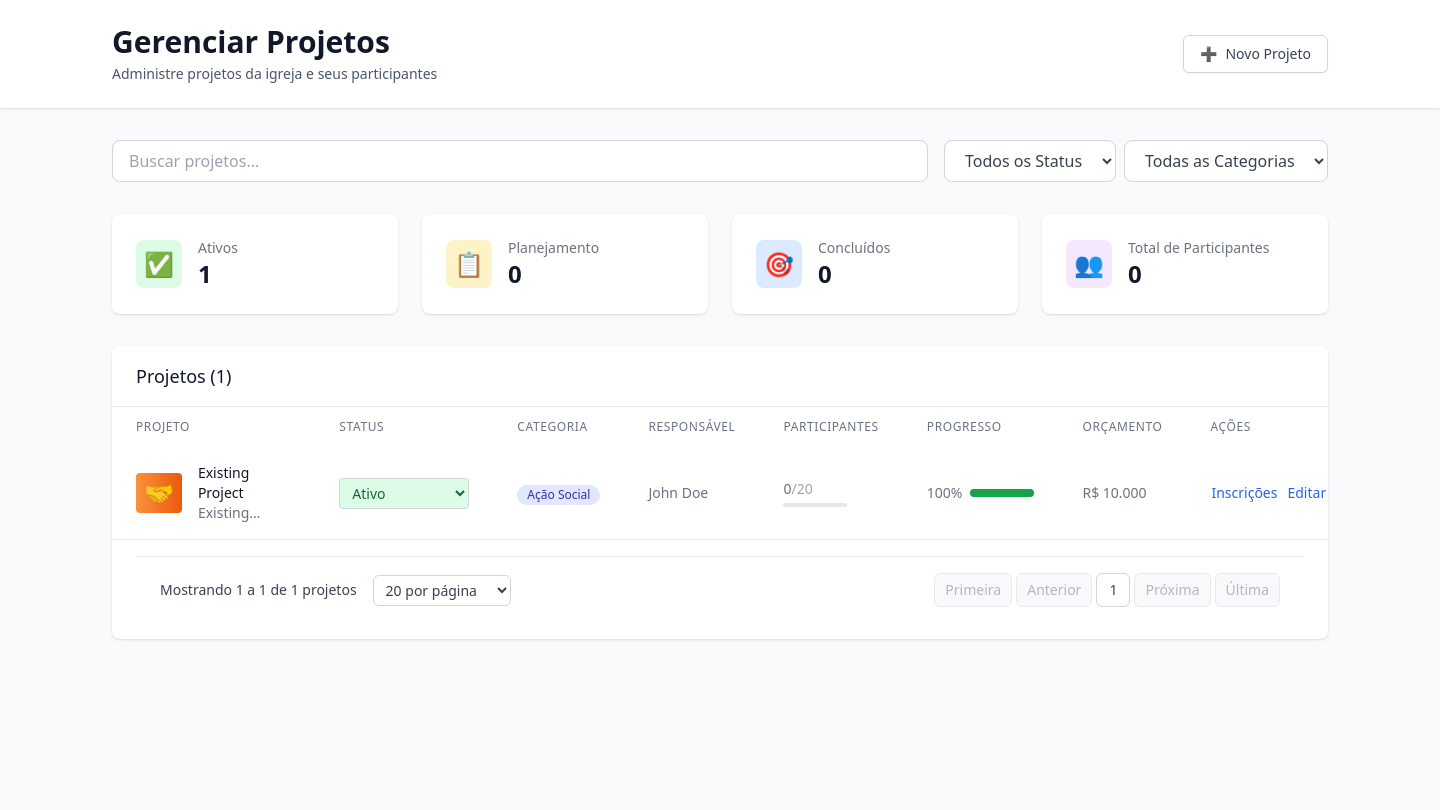
Test: AdminProjectsManagementPage › Edit Project › should open edit modal with project data
The width and height of the screenshot is (1440, 810).
Check: the text "Existing Project" is shown, box top-left (198, 463), bottom-right (249, 502)
Click the button "Editar" at (1307, 493), box top-left (1286, 482), bottom-right (1327, 504)
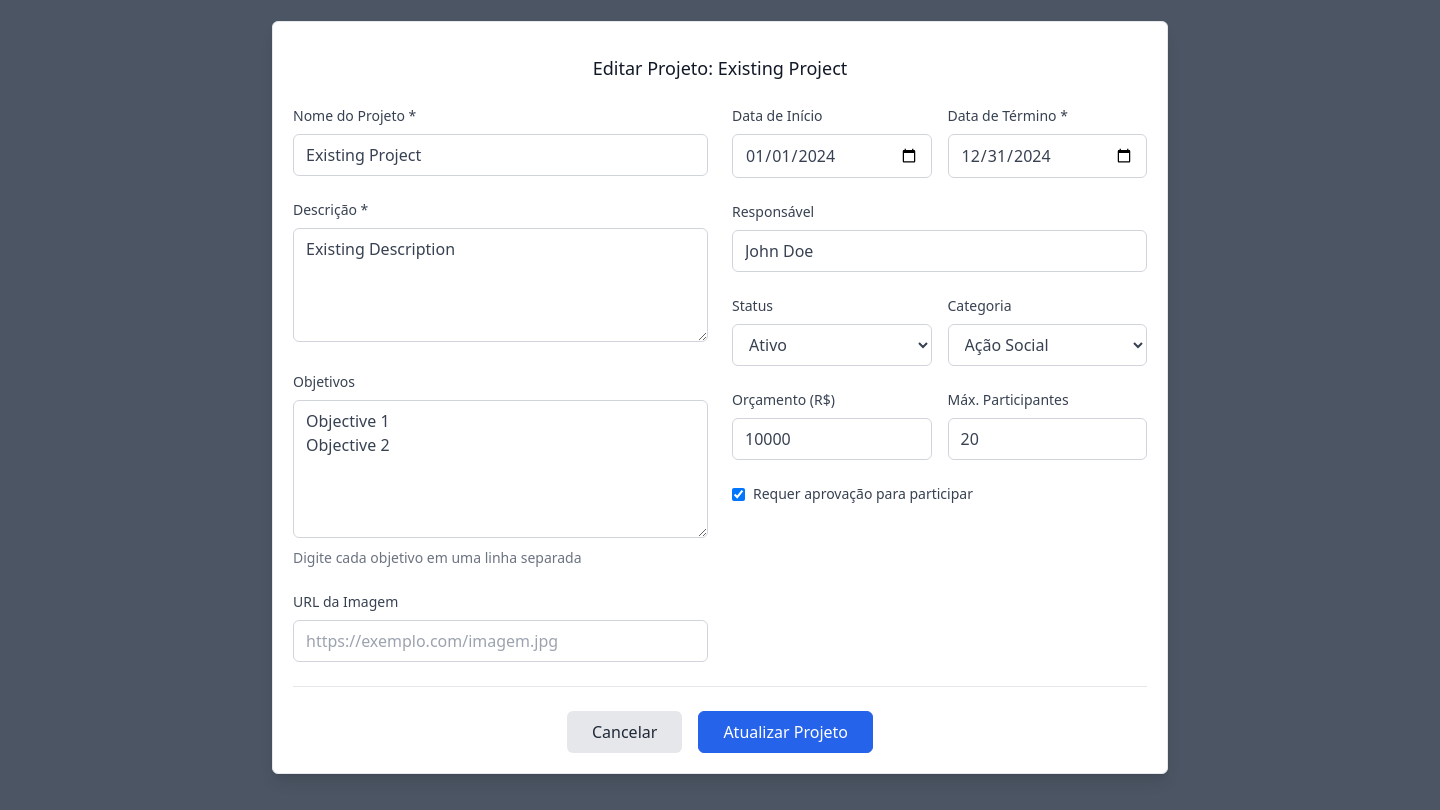
Check: the field showing "Existing Project" below "Nome do Projeto *" is shown, box top-left (293, 134), bottom-right (708, 176)
Check: the text box showing "Existing Description" below "Descrição *" is shown, box top-left (293, 228), bottom-right (708, 342)
